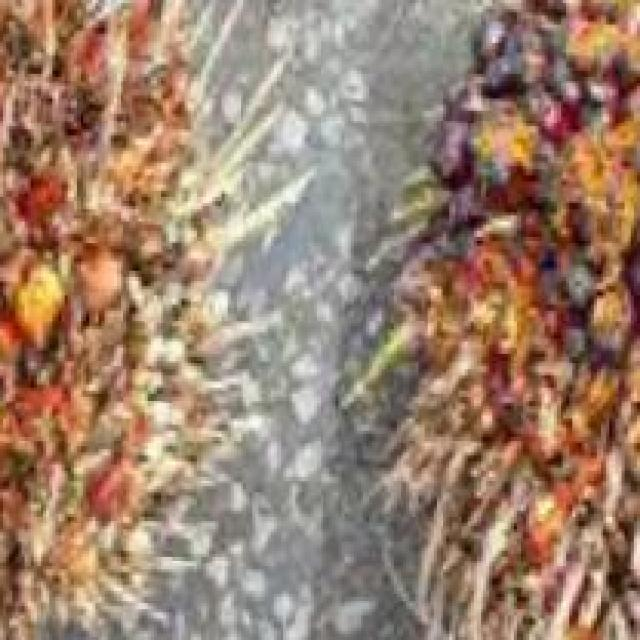overripe: (314, 0, 640, 640), (0, 0, 308, 640)
